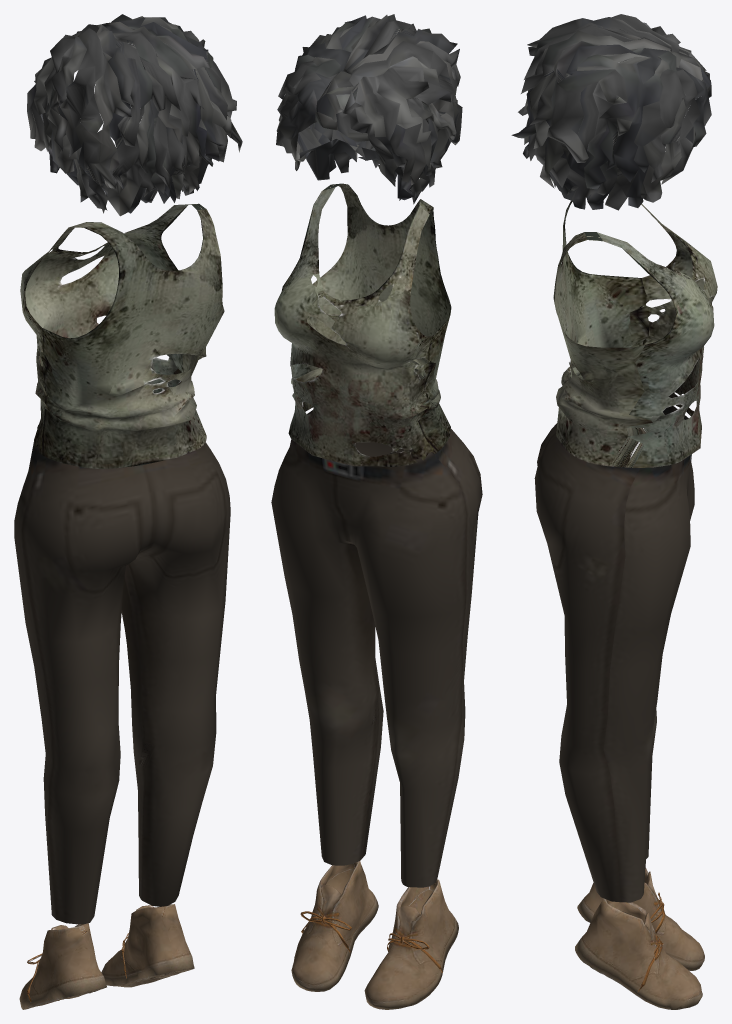
File: POOR CLOTH.fbx
3 views of the same model, side by side, from view 1: azimuth 30°, elevation 25°; view 2: azimuth 150°, elevation 25°; view 3: azimuth 270°, elevation 25° (orthographic). The views are drawn at different scales.
Visible parts, largest first — view 1: POOR TEXTURE, Shirt01_Shape_MatShirt01_0.001, Snake Hairs.001; view 2: POOR TEXTURE, Shirt01_Shape_MatShirt01_0.001, Snake Hairs.001; view 3: POOR TEXTURE, Shirt01_Shape_MatShirt01_0.001, Snake Hairs.001.
Boxes of the visible parts, x1=… form: POOR TEXTURE: x1=14, y1=441, x2=230, y2=1009; Shirt01_Shape_MatShirt01_0.001: x1=20, y1=203, x2=224, y2=468; Snake Hairs.001: x1=27, y1=14, x2=242, y2=216; POOR TEXTURE: x1=271, y1=410, x2=482, y2=1009; Shirt01_Shape_MatShirt01_0.001: x1=274, y1=183, x2=451, y2=466; Snake Hairs.001: x1=276, y1=14, x2=462, y2=204; POOR TEXTURE: x1=534, y1=406, x2=704, y2=1009; Shirt01_Shape_MatShirt01_0.001: x1=553, y1=201, x2=717, y2=467; Snake Hairs.001: x1=511, y1=14, x2=711, y2=210.
Size of the model in its own units: 29.61 by 144 by 28.04.
1 material, 1 textured.
